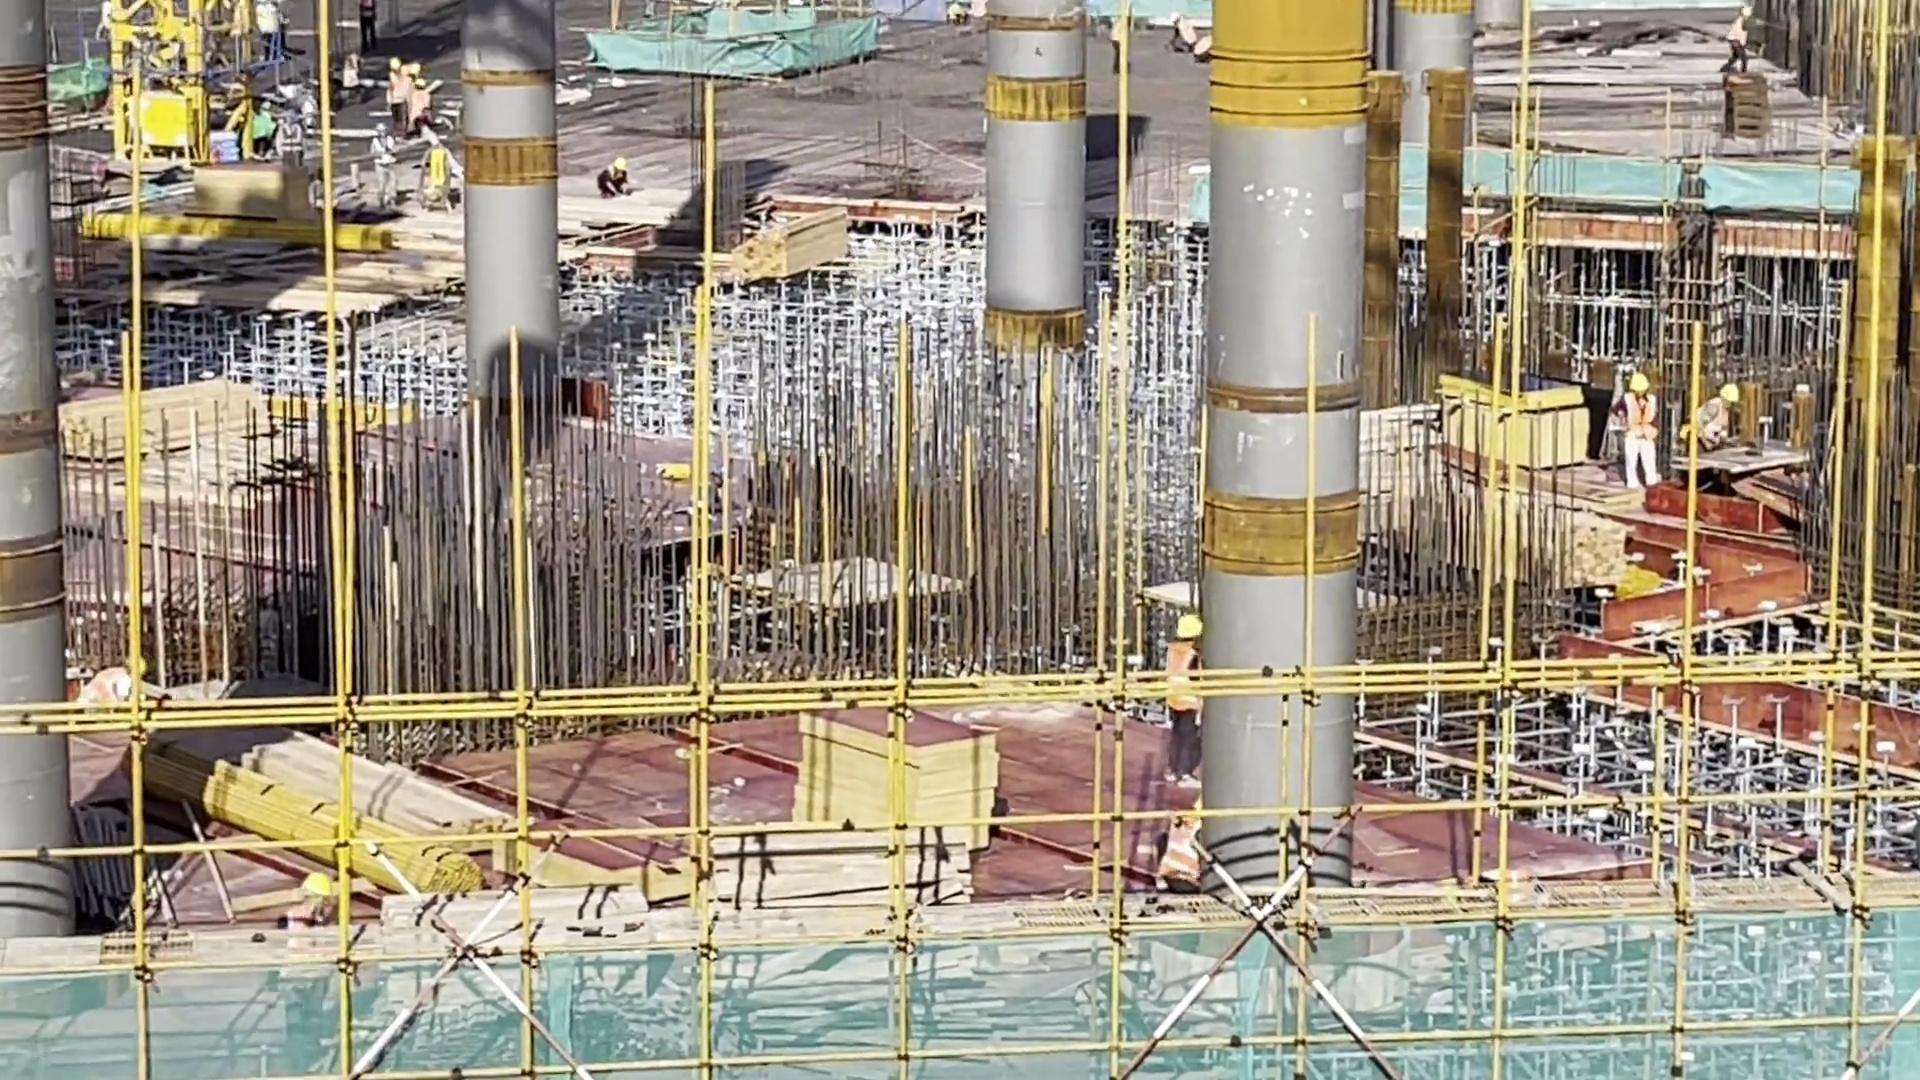helmet: (1171, 609, 1204, 652), (1628, 366, 1652, 401), (1718, 384, 1743, 413)
person: (1157, 608, 1221, 805), (1162, 794, 1231, 918), (1618, 369, 1676, 494), (1690, 381, 1748, 461), (416, 130, 463, 219), (1725, 1, 1763, 81), (372, 119, 400, 218), (249, 1, 293, 62), (598, 151, 641, 201), (333, 45, 365, 109), (384, 55, 408, 133), (409, 73, 431, 151), (281, 109, 302, 169)
vest: (1161, 645, 1207, 716), (1164, 808, 1207, 884), (1688, 397, 1733, 450), (1623, 392, 1658, 455), (278, 123, 307, 156)
